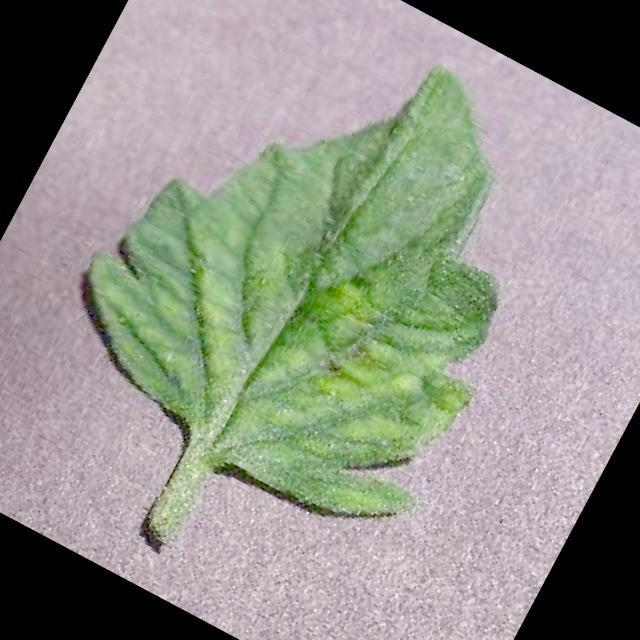Tomato mosaic virus leaf: (30, 0, 610, 557)
